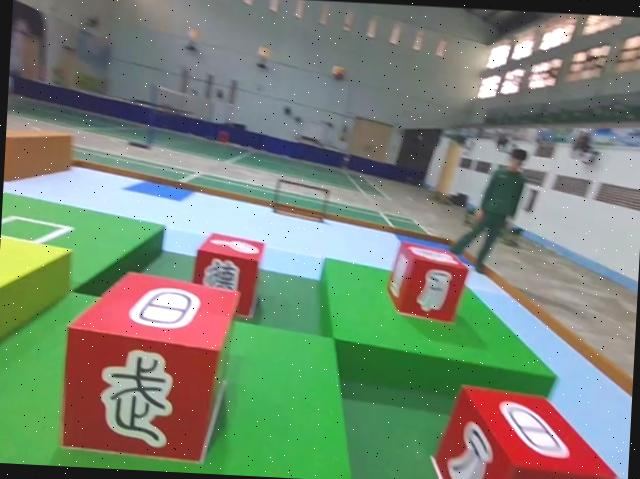R2 Fake: (58, 267, 241, 465), (431, 380, 620, 479), (387, 238, 469, 322), (191, 228, 267, 317)
